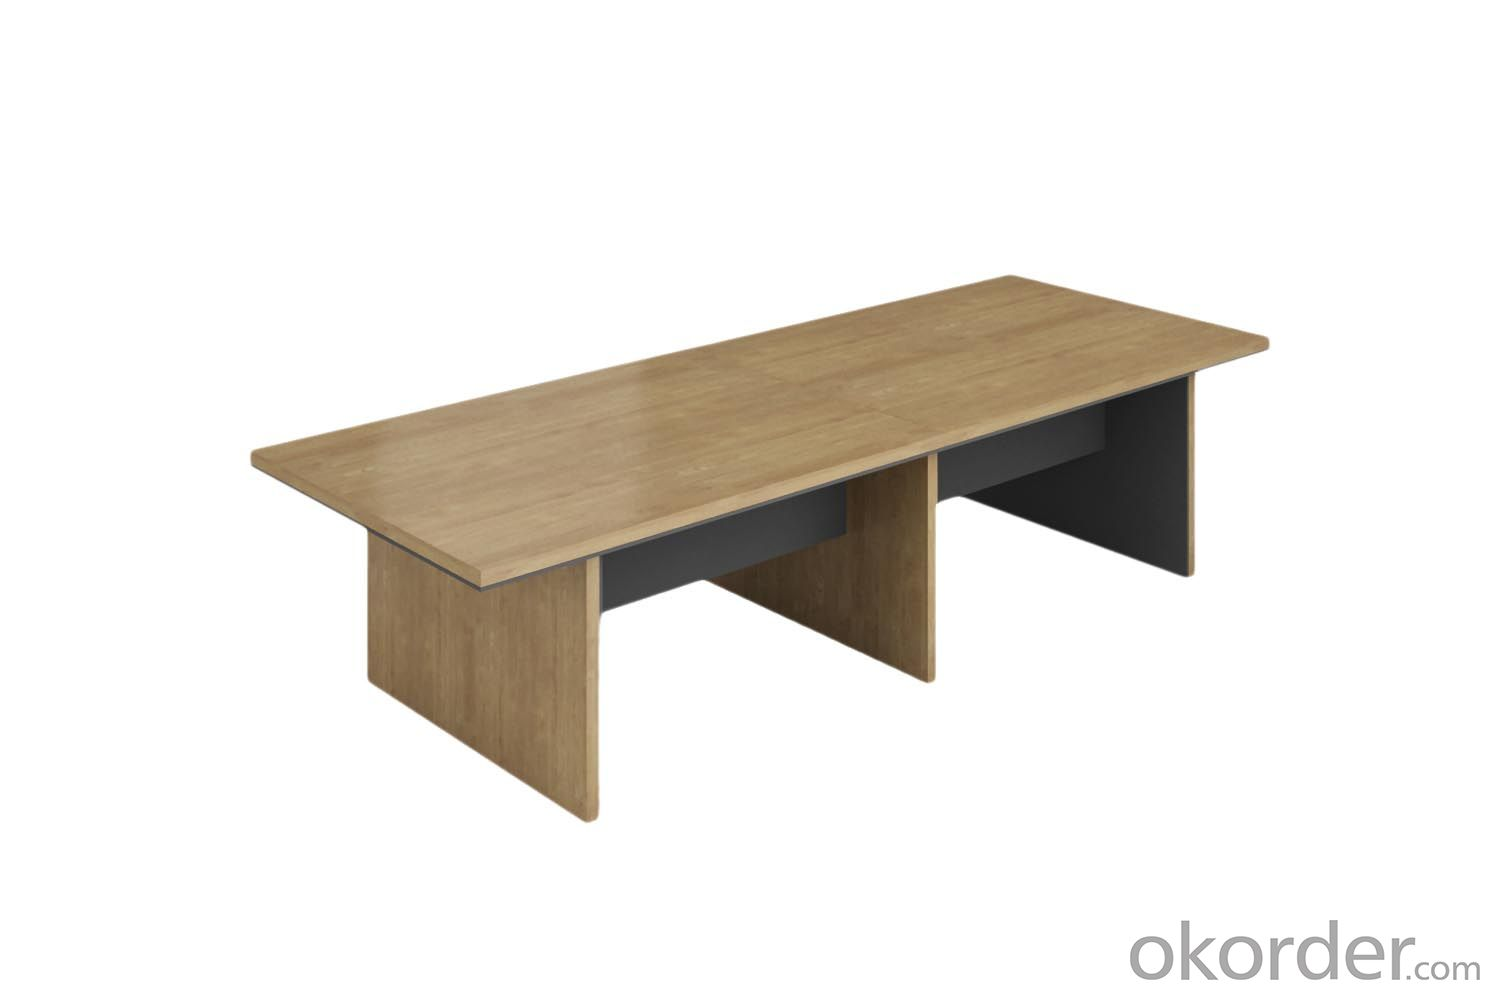conference_table: (248, 273, 1270, 822)
